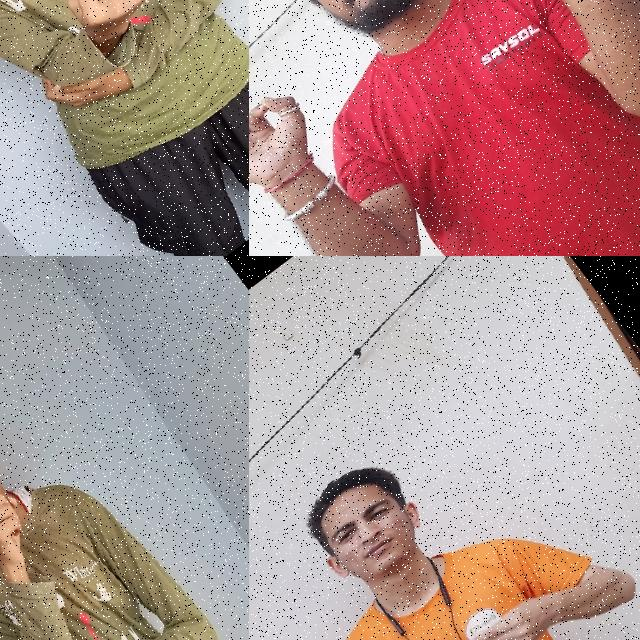Fist Mouth: (0, 325, 86, 595)
Five Fathers: (348, 547, 604, 640)
Middle Finger: (40, 0, 177, 59)
Okay: (249, 47, 343, 229)
